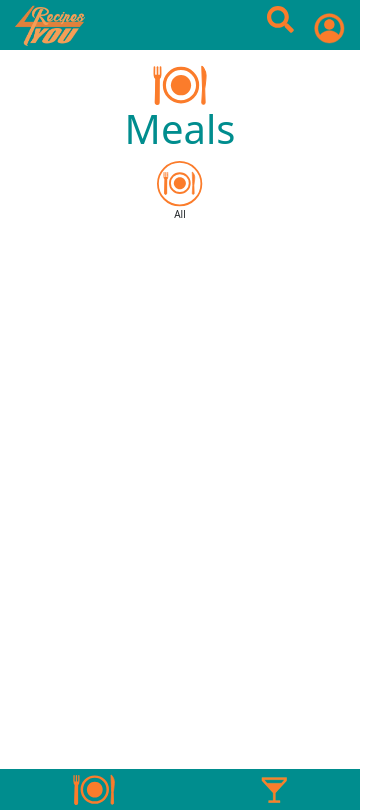
Test case: Checks if the Header renders the items on the screen correctly › If it contains a profile link that, when clicked, redirects to the profile page
The image size is (377, 810).
Click the 2nd link with alt text "Imagem de perfil" at (330, 29), box top-left (314, 13), bottom-right (345, 44)
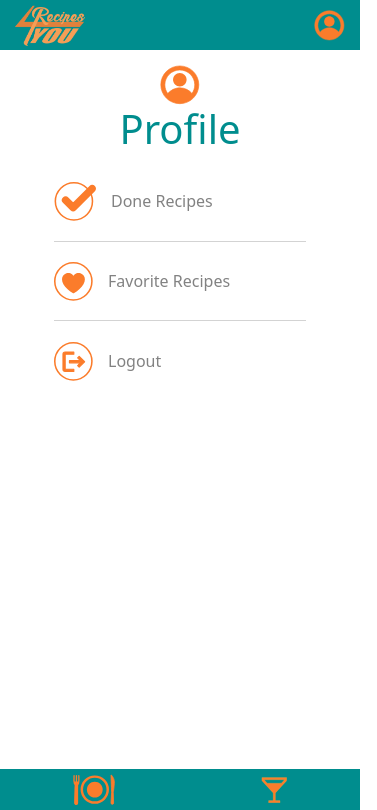
Result: the heading "Profile" is shown at top-left (120, 105), bottom-right (241, 153)
